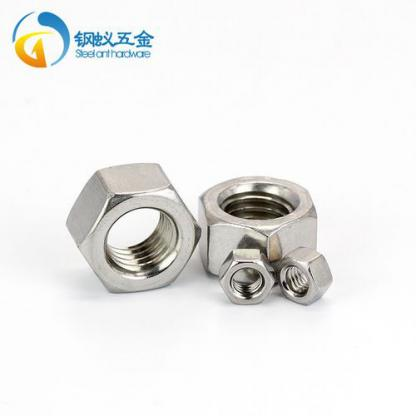FOD: (63, 161, 201, 297), (200, 170, 318, 284), (275, 244, 334, 308), (215, 245, 275, 307)
